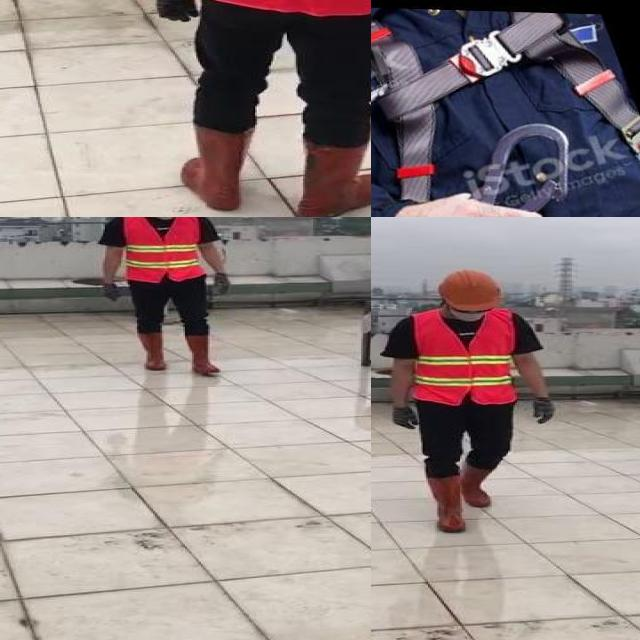Harness: (371, 12, 640, 202)
boots: (297, 140, 371, 217), (184, 125, 250, 208), (426, 476, 469, 534), (462, 461, 497, 507), (185, 334, 222, 375), (134, 330, 168, 370)
hand_glove: (155, 0, 205, 22), (531, 396, 558, 424), (391, 404, 419, 428), (98, 282, 124, 304), (212, 272, 231, 301)
head_helmet: (434, 268, 504, 314)
person: (371, 269, 563, 538), (141, 0, 371, 217), (91, 217, 242, 380)
vest: (412, 310, 520, 405), (124, 217, 206, 283)
